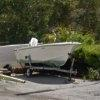Boat: (10, 37, 81, 73)
